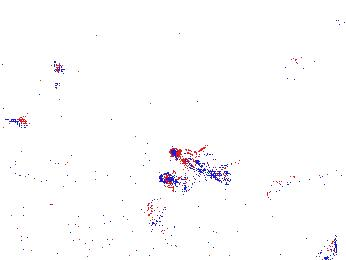X-ray fish: (280, 51, 343, 91)
red belly glassfish: (169, 147, 230, 180)
redtail glassfish: (261, 168, 346, 198), (159, 165, 240, 192)
